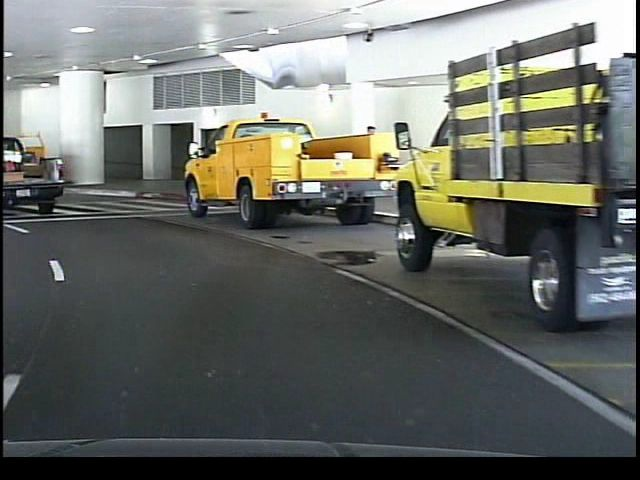person: (357, 118, 384, 204)
